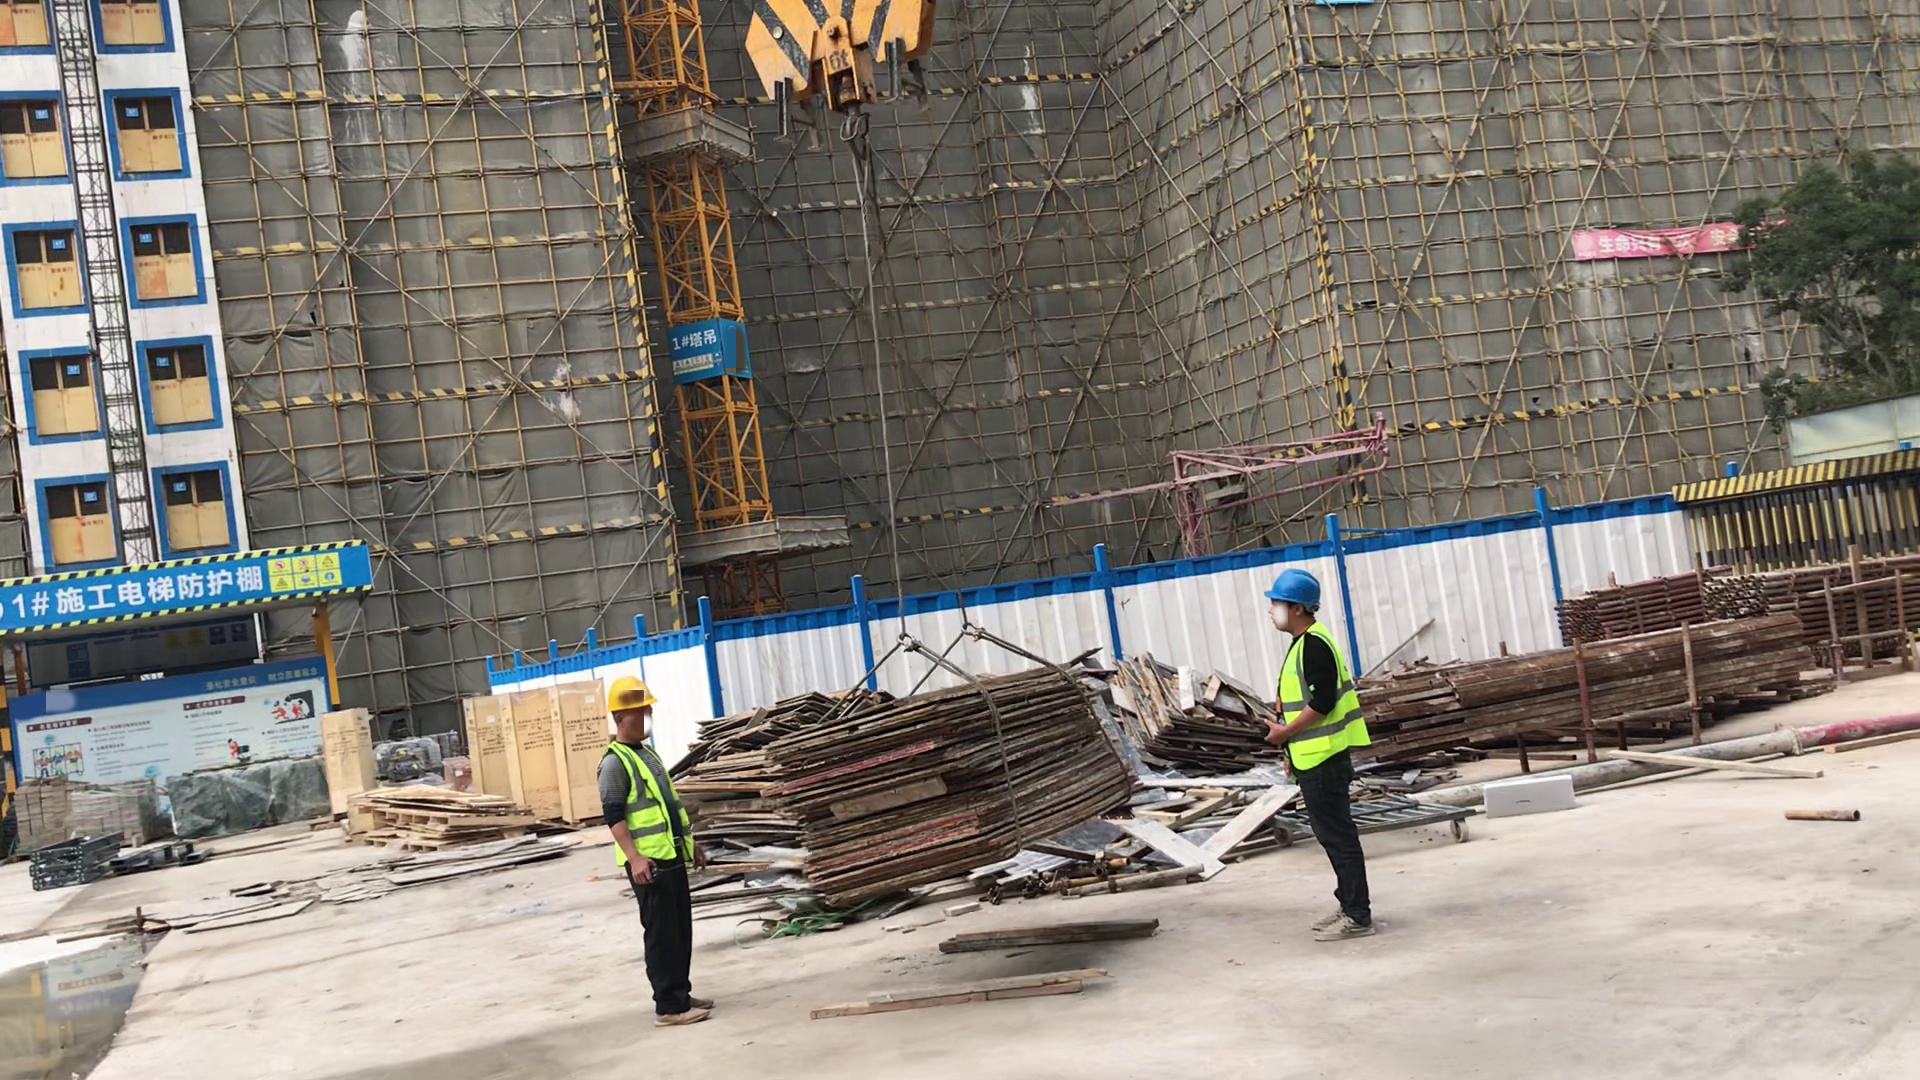board: (751, 665, 1146, 897)
helmet: (607, 673, 658, 715), (1265, 571, 1319, 611)
hook: (739, 3, 943, 165)
person: (599, 671, 729, 1034), (1258, 569, 1384, 939)
scaffold: (1554, 563, 1920, 658)
slogan: (1563, 220, 1789, 257), (265, 554, 350, 588), (669, 354, 715, 373)
vest: (1275, 623, 1371, 774), (606, 739, 696, 865)
